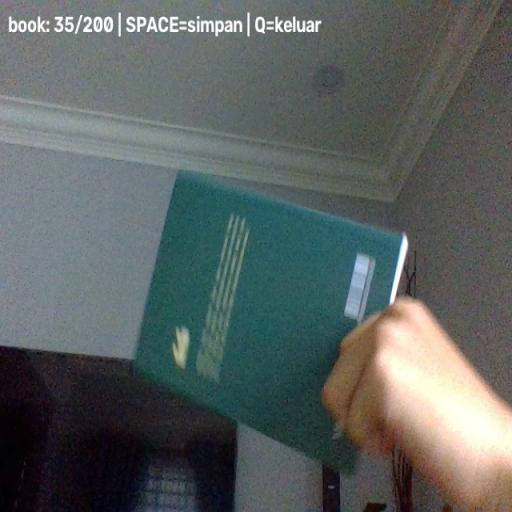Book: (132, 168, 407, 474)
